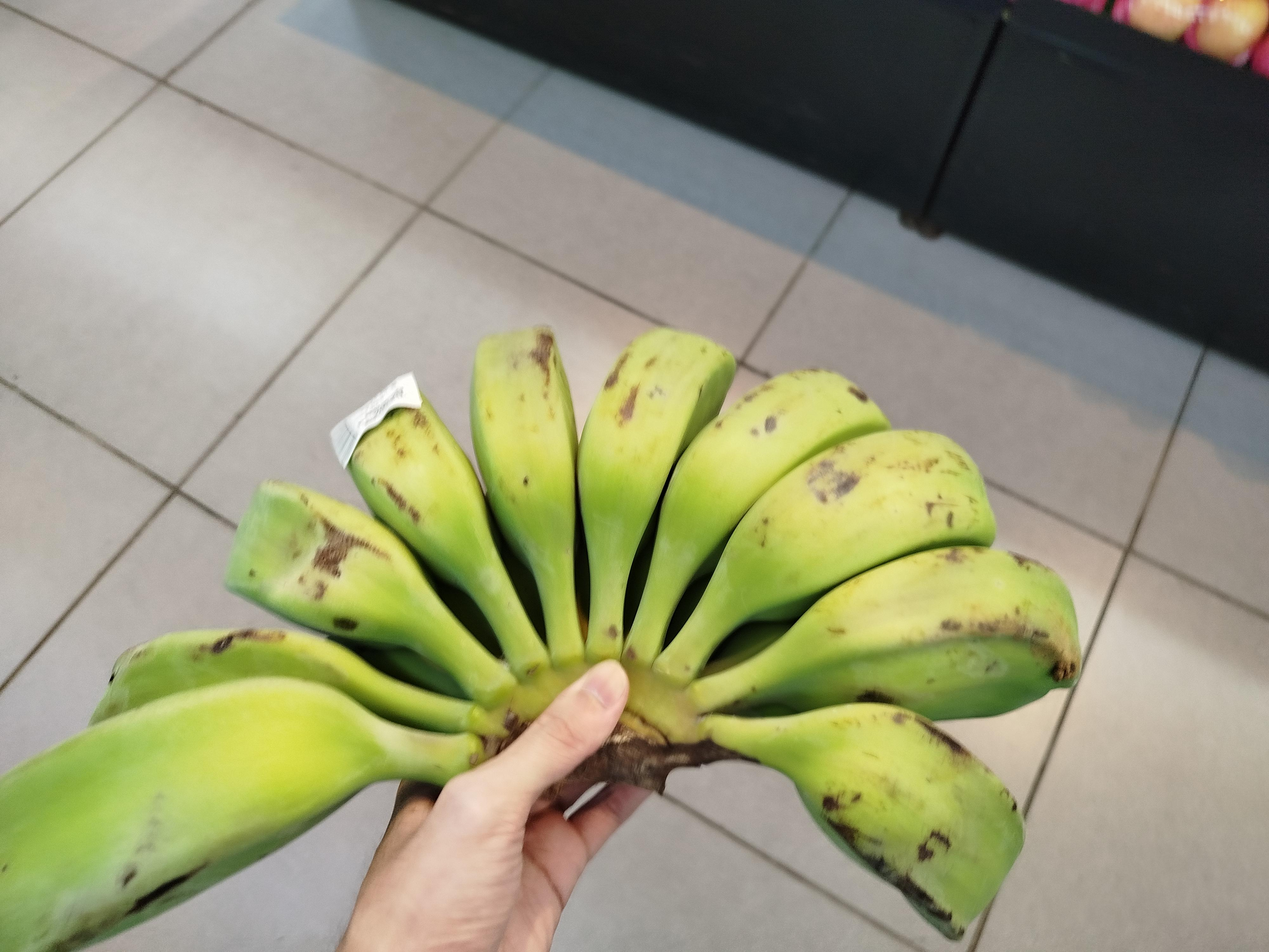underripe: (0, 331, 1081, 952)
